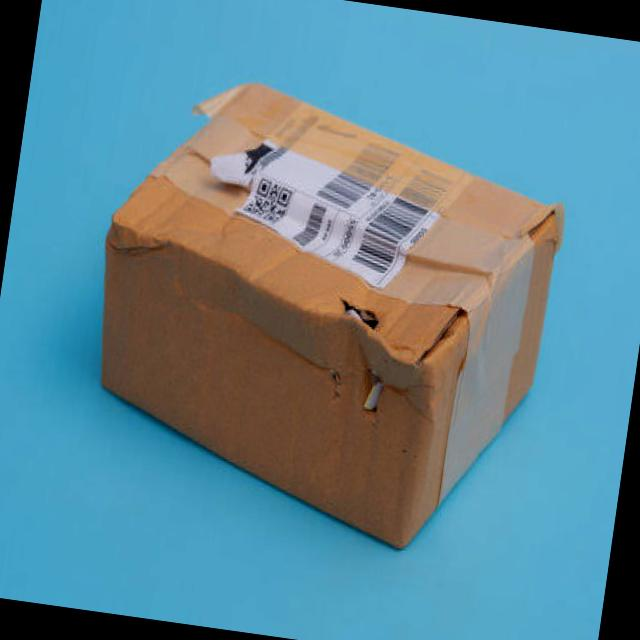carton_box: (55, 64, 596, 590)
export_mark_label: (215, 138, 444, 287)
package_damage: (306, 274, 484, 455), (516, 180, 574, 256)
